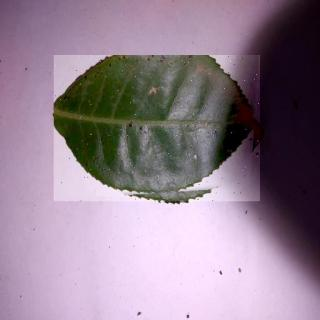Bird Eye Spot: (55, 57, 261, 204)
